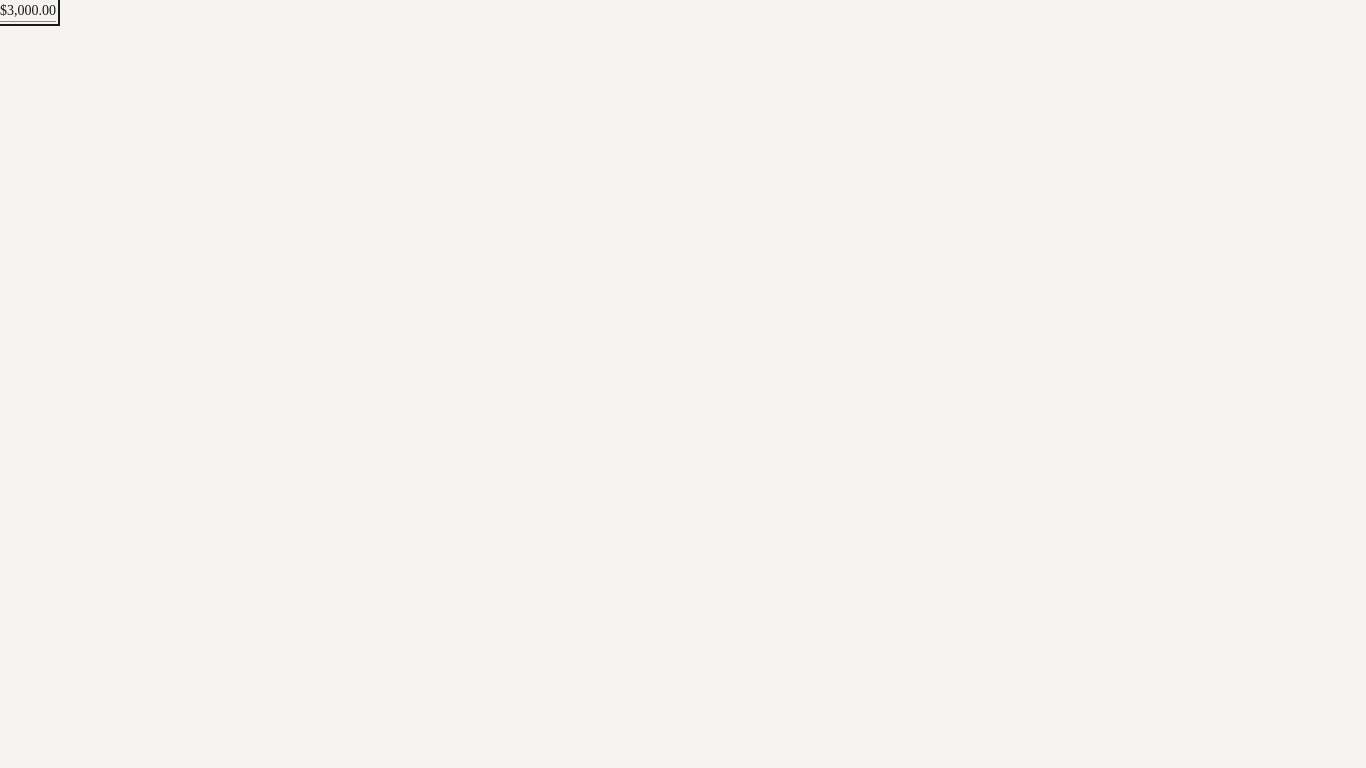
Test case: ExplicarProvider (panel premium) › detalle: ordena, pagina y exporta CSV; cifra que no cuadra lo dice
The width and height of the screenshot is (1366, 768).
Later steps or results of the test are not shown.
Click the button with class "rtm-cifra" at (28, 11), box [0,0,56,22]
(page scrolled)
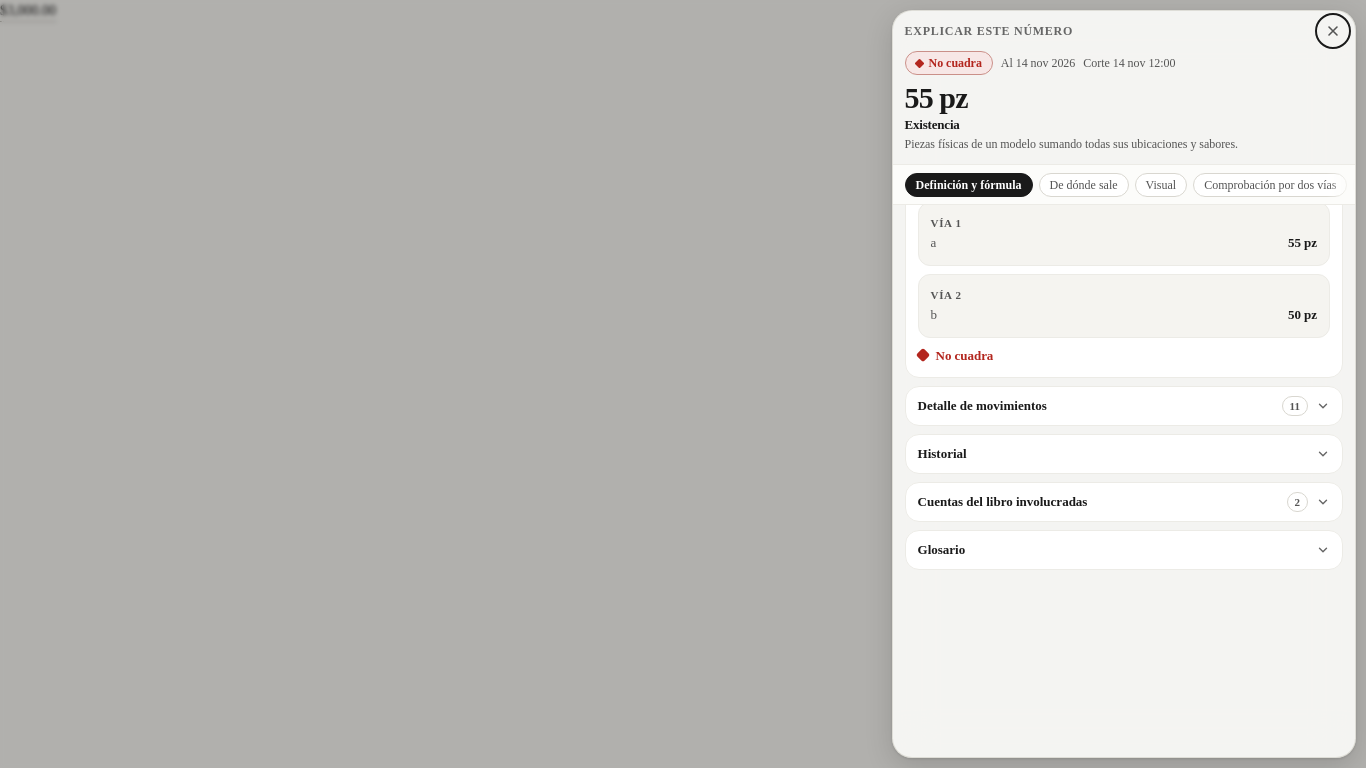
Result: the text with test id "explicar-estado" reads "No cuadra" at [929,56,982,70]
